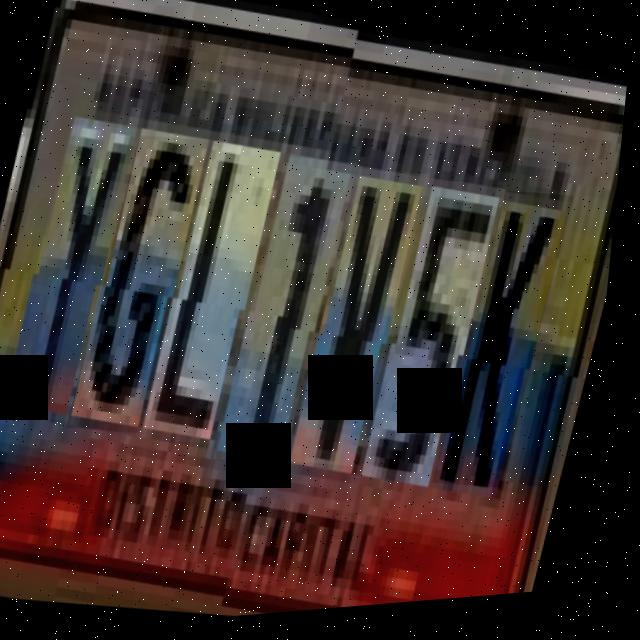1: (222, 159, 363, 475)
5: (369, 184, 513, 491)
G: (74, 133, 218, 441)
K: (442, 196, 579, 502)
L: (147, 146, 290, 453)
V: (296, 171, 435, 478)
Y: (6, 121, 145, 429)
